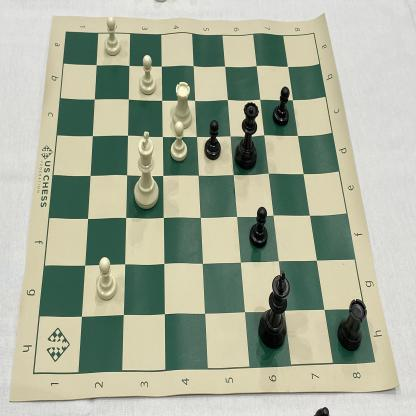black-king: (256, 270, 292, 351)
black-pawn: (247, 204, 270, 251), (202, 118, 223, 163), (272, 85, 292, 129)
black-queen: (233, 100, 260, 173)
black-rook: (337, 295, 367, 354)
white-king: (131, 131, 161, 211)
white-pawn: (95, 255, 120, 304), (102, 14, 123, 58), (169, 120, 189, 164), (138, 53, 158, 97)
white-rook: (171, 80, 194, 131)
